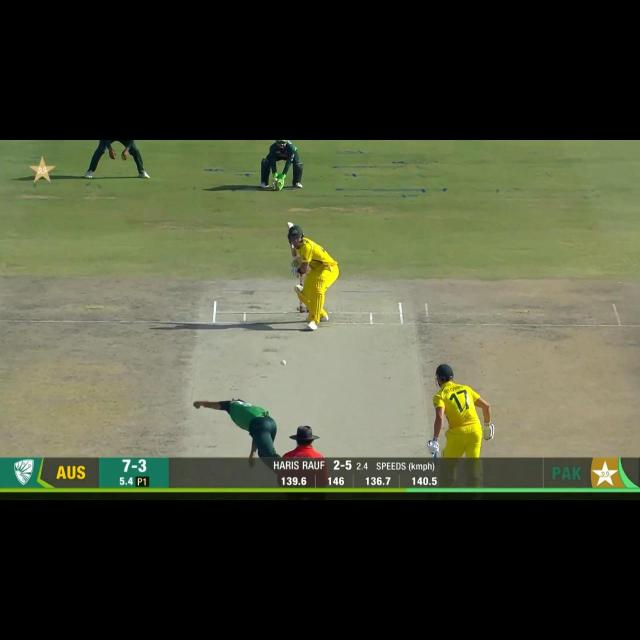bat: (290, 246, 299, 260)
toe: (286, 218, 296, 233)
